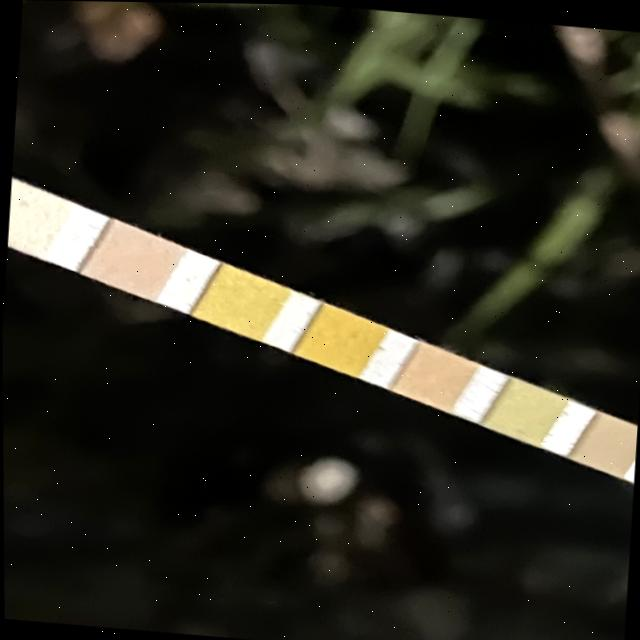Bilirubin: (6, 193, 57, 242)
Blood: (311, 317, 369, 364)
Ketone: (98, 236, 165, 285)
Protein: (498, 392, 548, 433)
SpGravity: (210, 276, 269, 327)
Urobilinogen: (584, 422, 629, 466)
pH: (410, 355, 461, 397)
